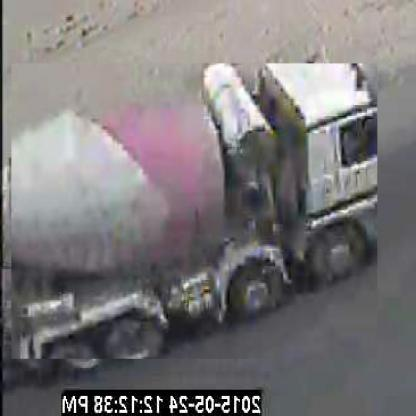truck: (12, 65, 379, 362)
